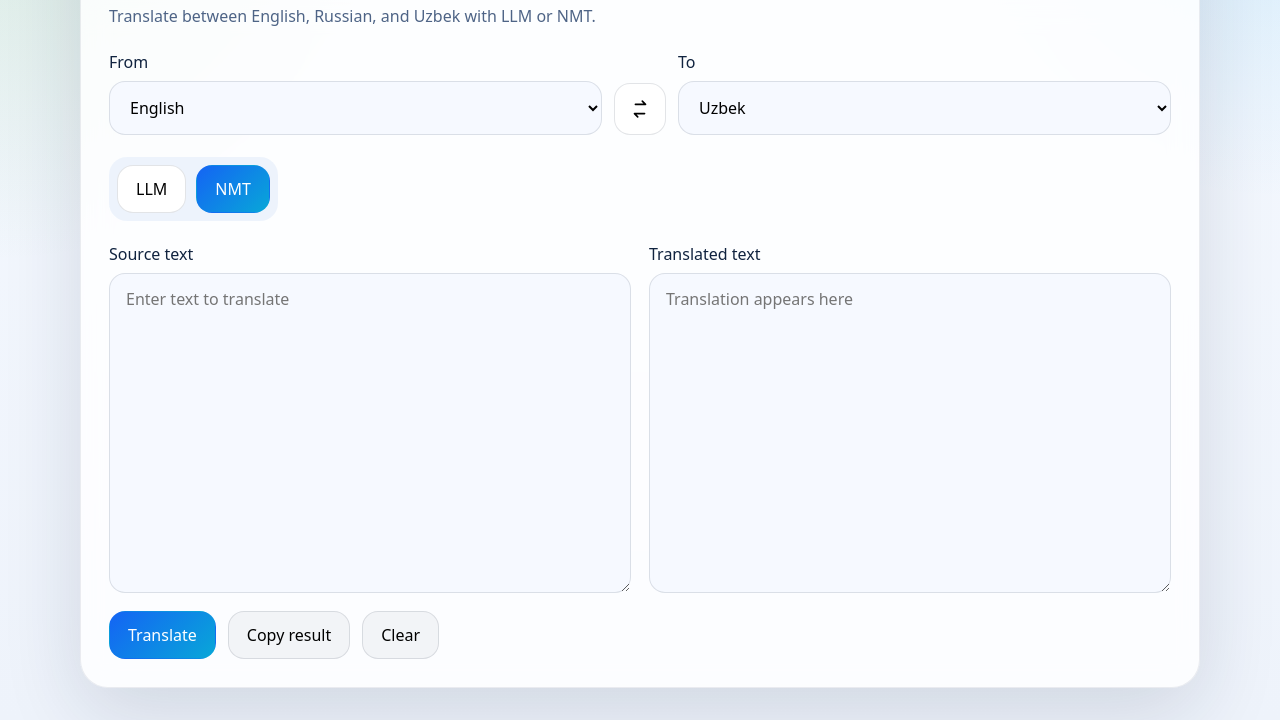
Test: App › clears both textareas when the clear action is pressed
The image size is (1280, 720).
(page scrolled)
Type "Hello" into the text box labelled "Source text".
click(370, 433); type("Hello")  # box [109,273,631,593]
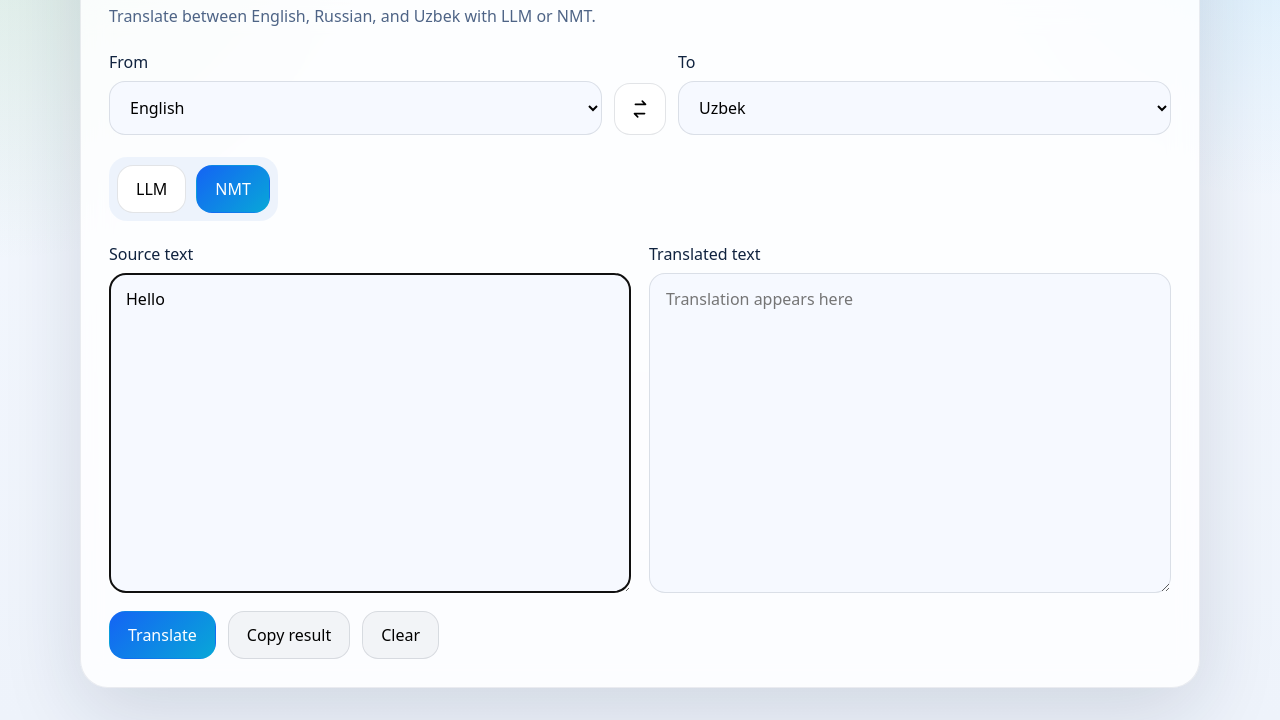
Click the button "Clear".
click(401, 635)  # box [362,611,439,659]
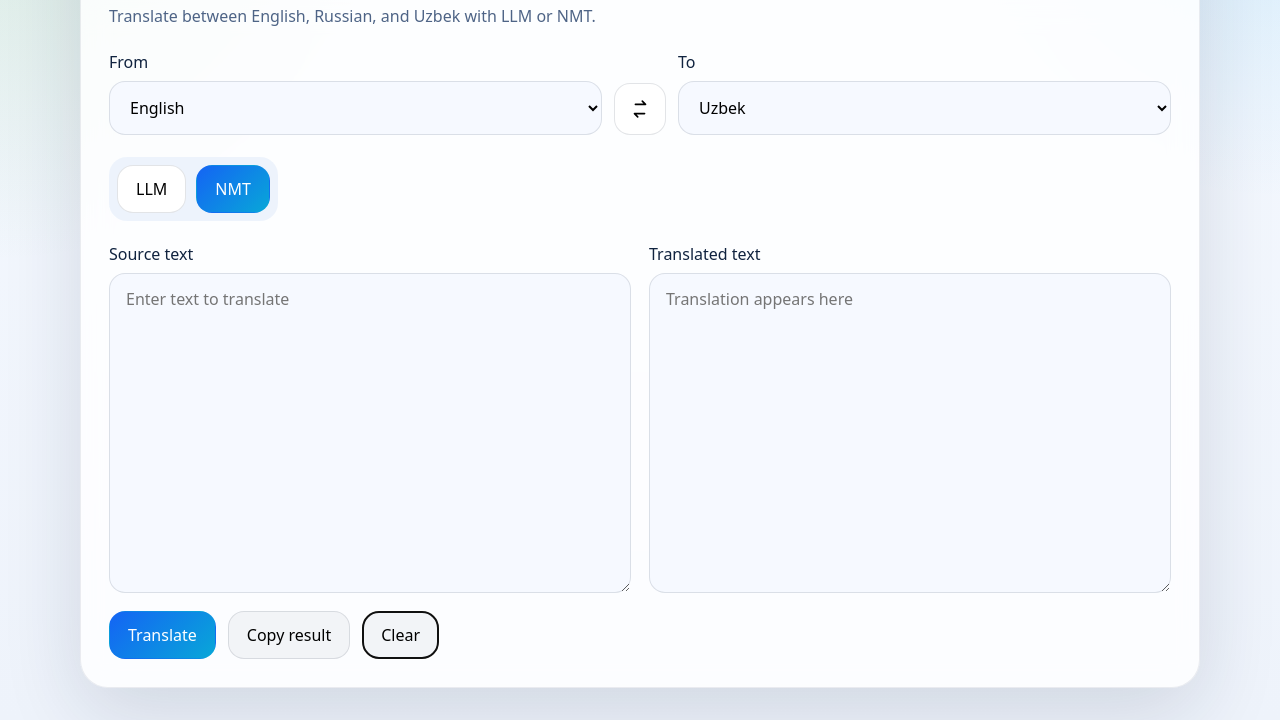
Expected: the text box labelled "Translated text" is empty, [649,273,1171,593]
Expected: the text box labelled "Source text" is empty, [109,273,631,593]
